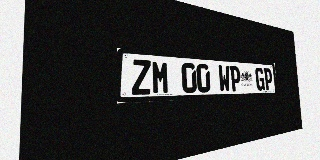0: (181, 62, 197, 93), (196, 63, 211, 93)
G: (255, 67, 265, 91)
M: (151, 60, 170, 94)
P: (229, 66, 241, 92), (264, 68, 273, 90)
W: (218, 65, 231, 92)
Z: (131, 59, 152, 95)
